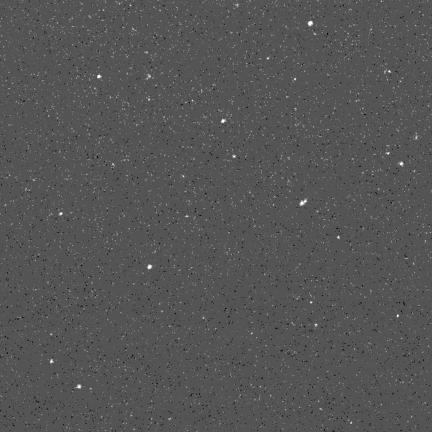blob: (399, 162, 404, 167), (308, 21, 313, 26), (221, 119, 226, 123), (147, 265, 152, 269), (76, 384, 81, 388), (59, 212, 63, 215), (233, 155, 236, 158), (397, 315, 400, 318), (98, 75, 101, 78)
